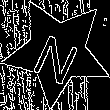N_NE: (29, 20, 86, 83)
